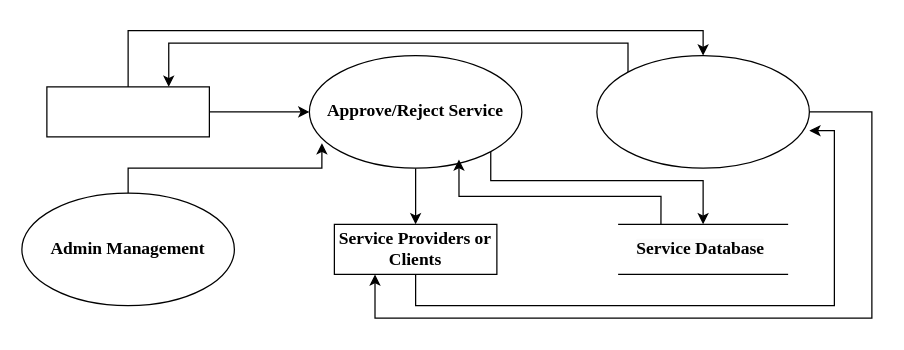
Image size: 904x350. Some labels were removed from this diagram. Each missing label, with the centre of its shape:
Dispute Resolution Management: (x=702, y=111)
Django Admin: (x=127, y=111)
